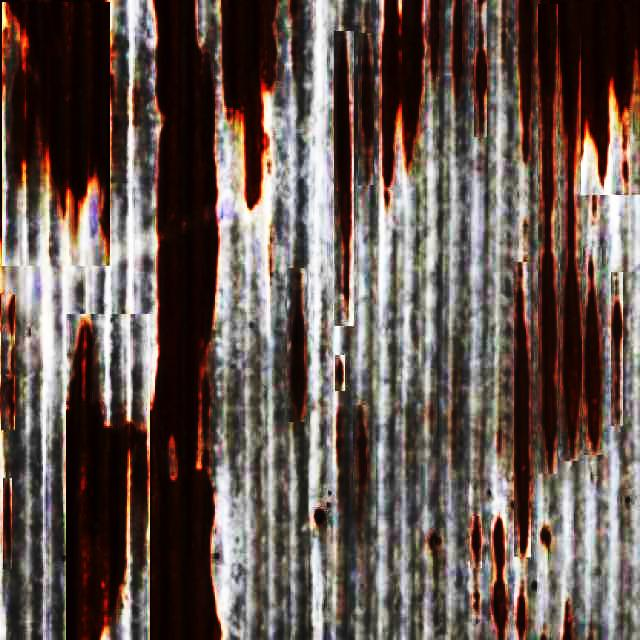Corrosion: (149, 0, 219, 640), (520, 0, 640, 238), (5, 0, 108, 242), (65, 321, 141, 640), (222, 0, 275, 207), (382, 0, 422, 186), (334, 30, 354, 326), (515, 289, 530, 554), (542, 240, 557, 464), (564, 261, 582, 446), (585, 285, 602, 448), (291, 297, 306, 418), (494, 519, 507, 640), (361, 34, 373, 146), (476, 47, 487, 130), (454, 0, 463, 94), (431, 0, 440, 74), (357, 428, 367, 486), (471, 516, 482, 564), (613, 301, 624, 345), (517, 594, 526, 640), (563, 604, 573, 640), (568, 410, 577, 446), (541, 528, 551, 548), (313, 510, 325, 526), (429, 535, 440, 550)
